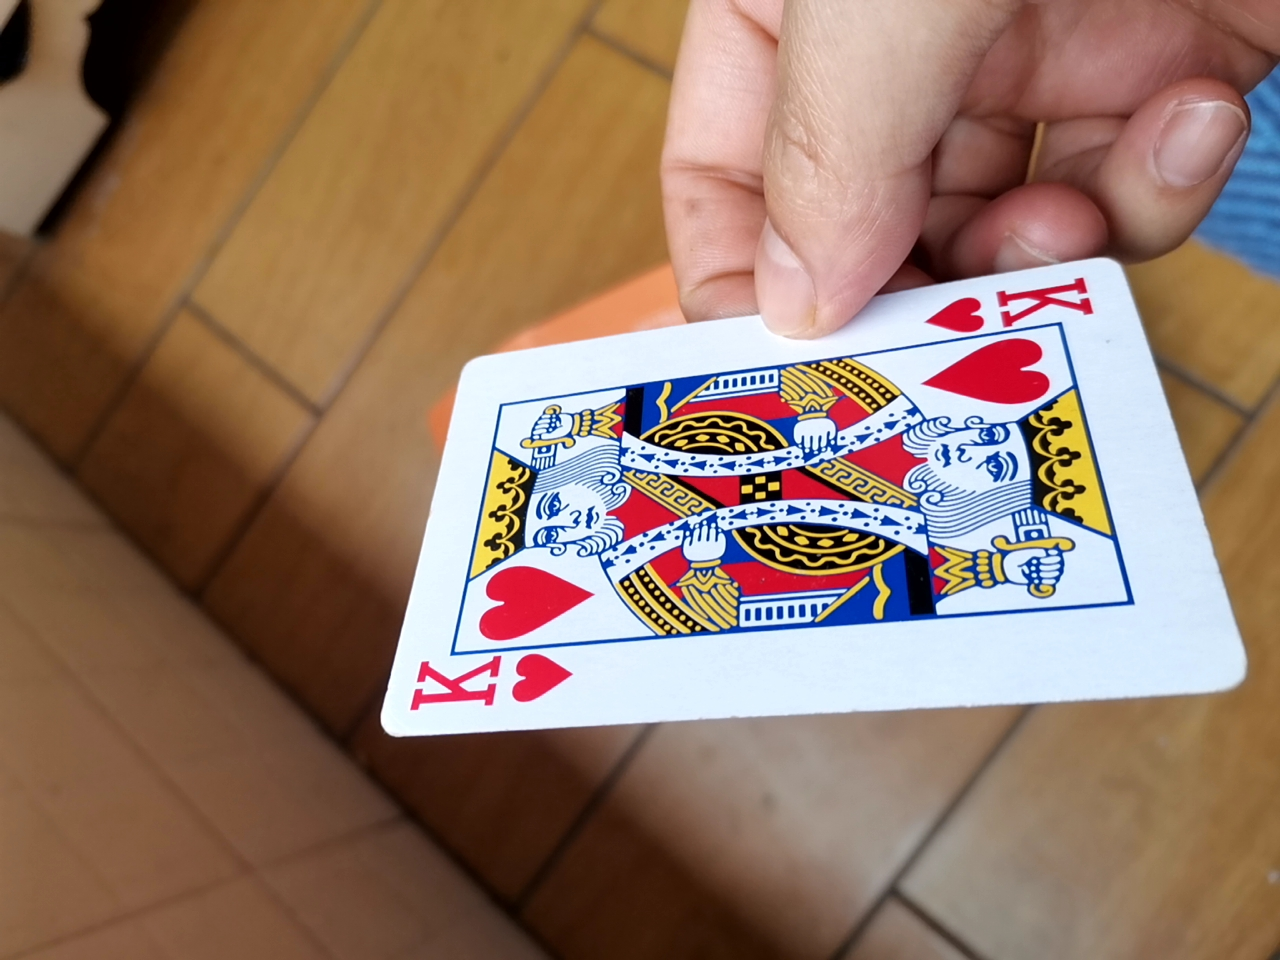hx k: (363, 269, 1228, 734)
